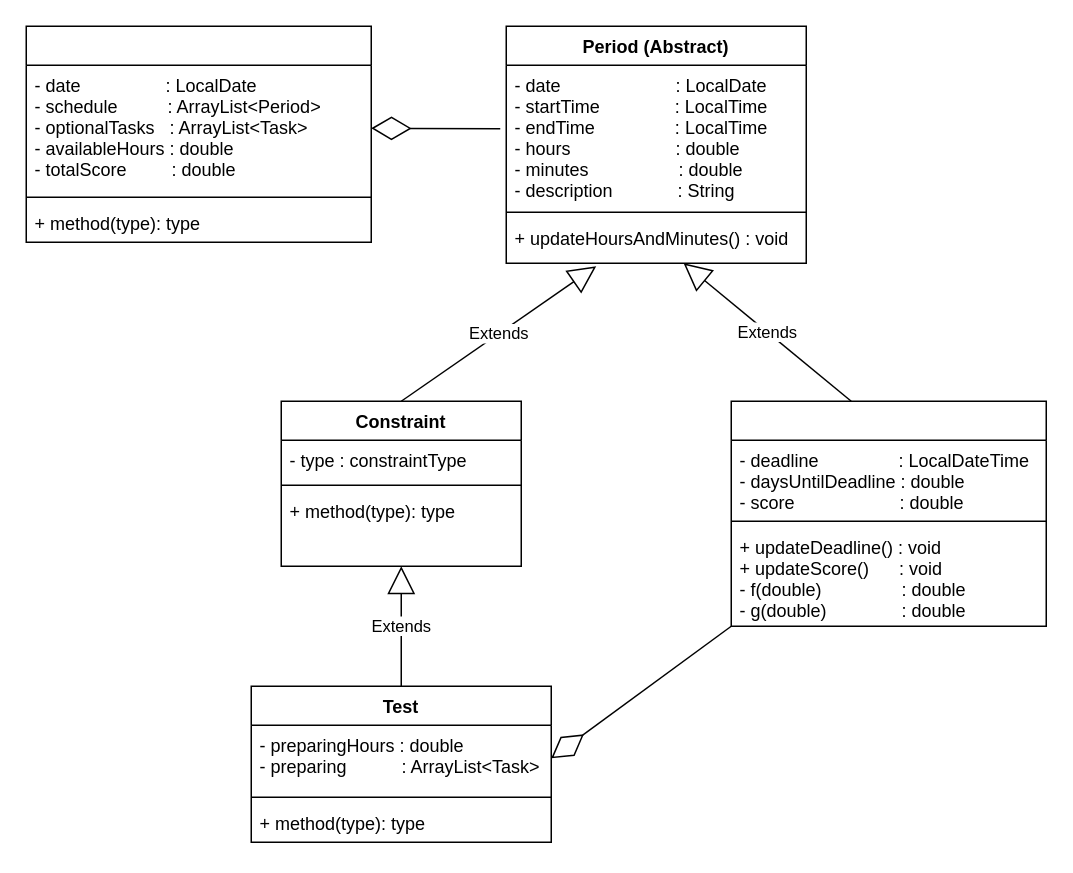
This 1073x873 diagram has some shape labels left out. Here are the shapes that lost their labels. From the top down, the box of each, then its label:
(25, 25, 371, 242): Day
(730, 400, 1046, 626): Task
